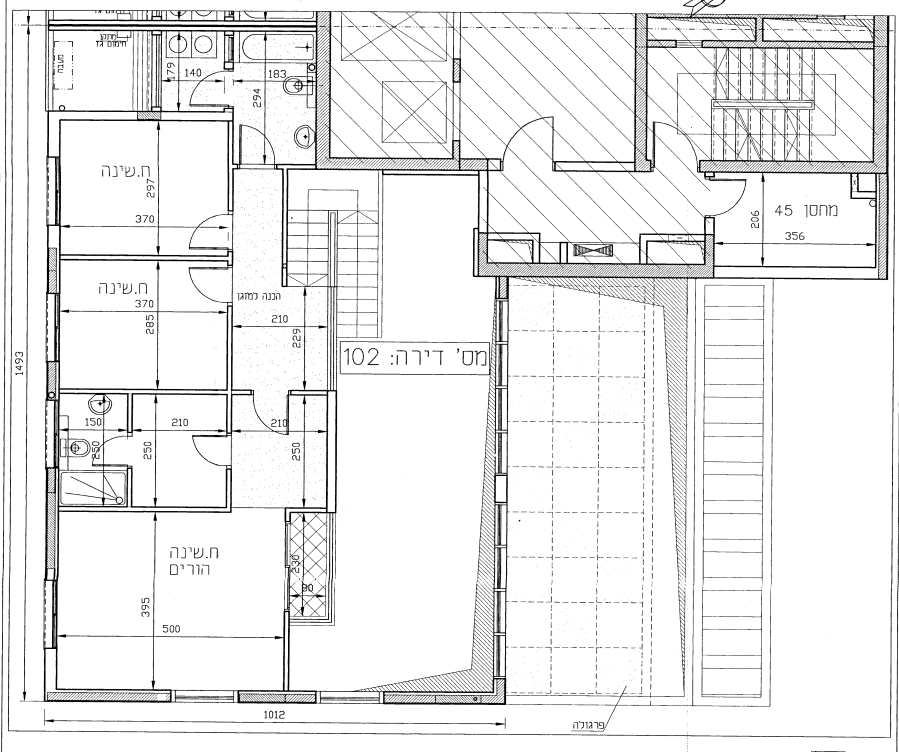door: (496, 112, 562, 163), (229, 113, 295, 164), (642, 112, 699, 165), (183, 60, 238, 110), (704, 169, 752, 222), (185, 213, 228, 255), (184, 264, 227, 306), (247, 395, 290, 437), (189, 429, 232, 471), (88, 429, 131, 471)
wall: (479, 262, 712, 278), (316, 13, 330, 166), (875, 15, 886, 175), (316, 157, 459, 168)
window: (43, 579, 59, 647), (45, 159, 60, 225), (43, 293, 58, 359), (42, 397, 57, 463), (172, 691, 239, 703), (316, 692, 383, 704)
